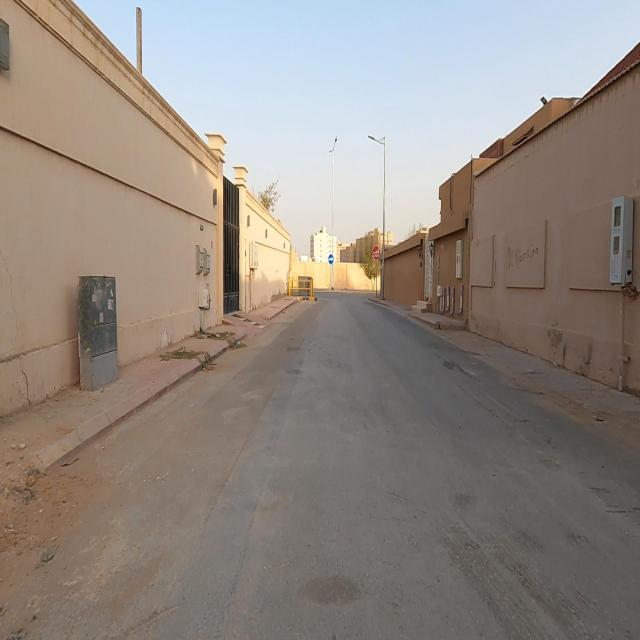Graffiti: (507, 243, 542, 273)
